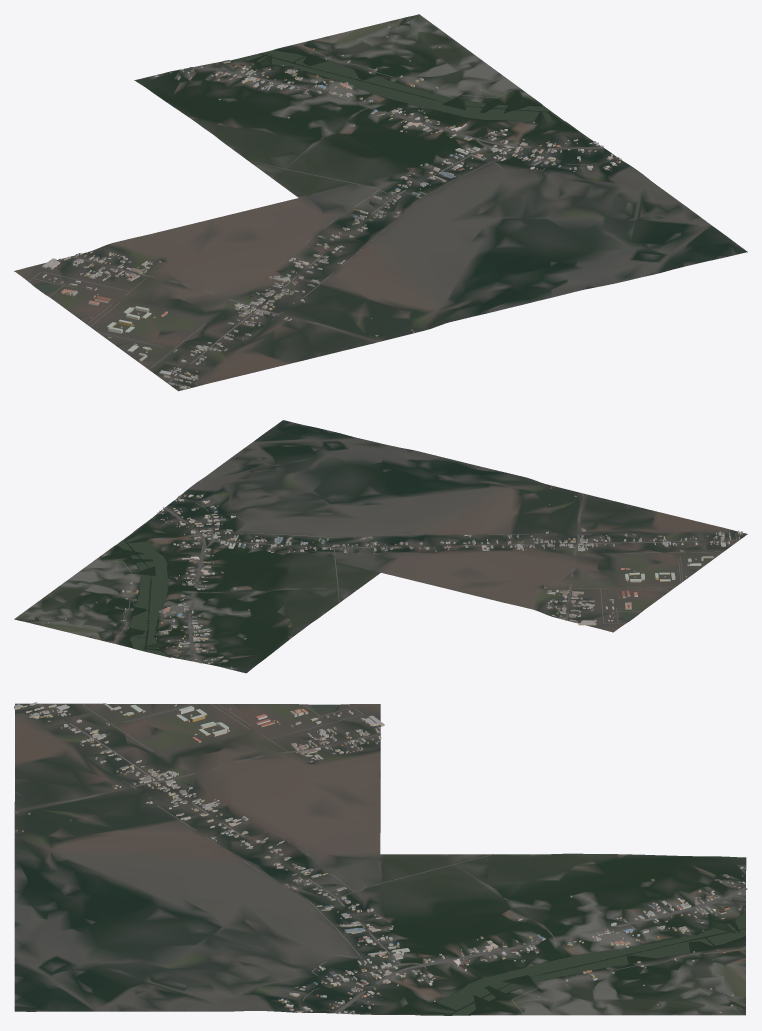
3 views of the same model, one above another, from view 1: azimuth 30°, elevation 25°; view 2: azimuth 150°, elevation 25°; view 3: azimuth 270°, elevation 25° (orthographic). The views are drawn at different scales.
Visible parts, largest first — view 1: ground, buildings, water, roads; view 2: ground, buildings, water, roads; view 3: ground, buildings, water, roads.
Boxes of the visible parts, x1,y1,x2,y2 form: ground: (14,14,747,391); buildings: (42,22,621,389); water: (34,17,563,293); roads: (29,44,616,386); ground: (14,420,747,673); buildings: (27,485,743,668); water: (23,532,637,656); roads: (95,493,738,663); ground: (14,703,746,1015); buildings: (14,702,745,1014); water: (312,704,745,1015); roads: (14,703,747,1015).
Bounding box in the file's own units: 2805 × 38.77 × 2811.
